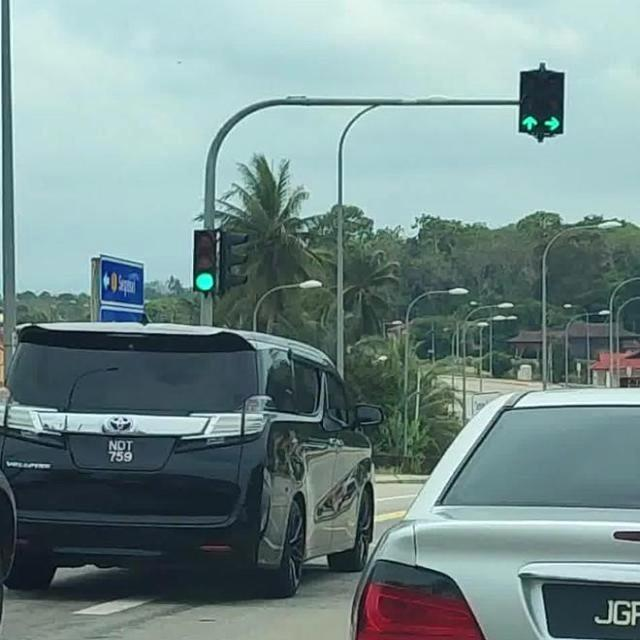Green: (518, 71, 544, 130), (542, 72, 564, 134), (193, 230, 214, 292)
